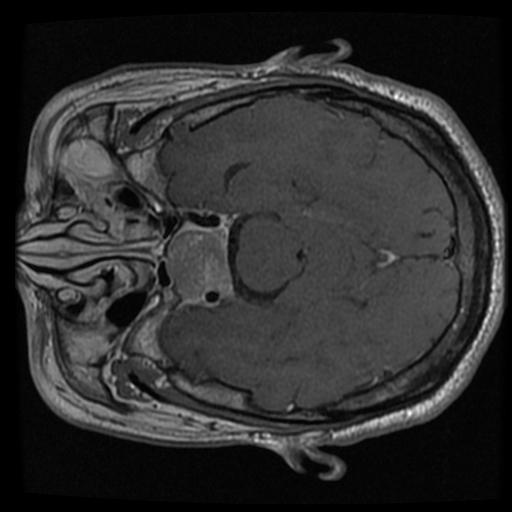pituitary tumour: (168, 230, 227, 300)
